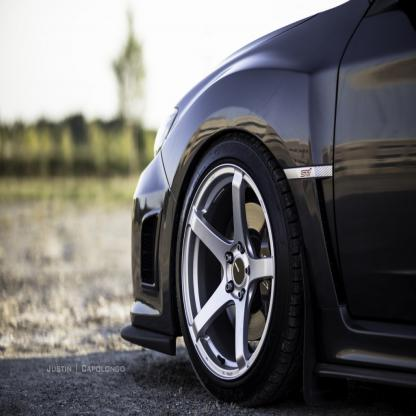Car: (121, 0, 415, 408)
